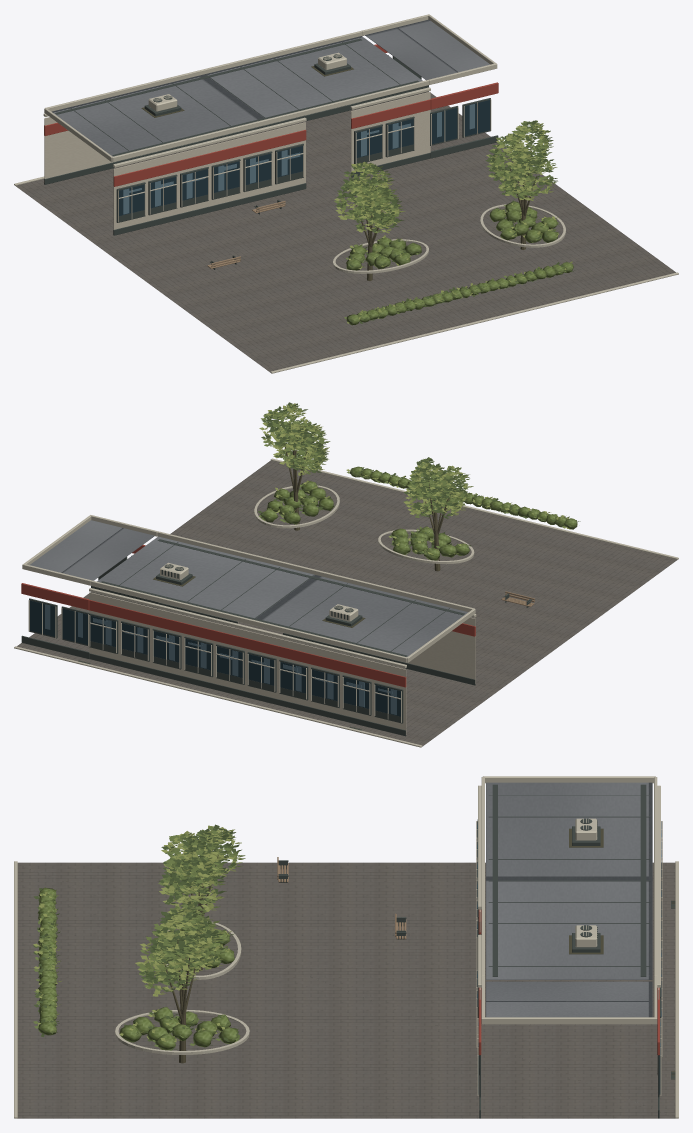
Rendered from court.glb.
3 views of the same model, one above another, from view 1: azimuth 30°, elevation 25°; view 2: azimuth 150°, elevation 25°; view 3: azimuth 270°, elevation 25° (orthographic). The views are drawn at different scales.
Parts seen in each view (by area): view 1: fixed:limestone, srap:roof-felt, fixed:leaf shadow, srap:plaster, srap:powder coated graphite, srap:limestone coping, fixed:foliage, fixed:limestone coping, srap:smoked glazing, fixed:roof-felt, srap:SRAP enamel, srap:soft reflected sky (+4 smaller); view 2: fixed:limestone, srap:roof-felt, srap:powder coated graphite, srap:plaster, srap:limestone coping, fixed:leaf shadow, srap:smoked glazing, fixed:limestone coping, fixed:foliage, fixed:roof-felt, srap:SRAP enamel, srap:soft reflected sky (+4 smaller); view 3: fixed:limestone, srap:roof-felt, fixed:leaf shadow, fixed:roof-felt, srap:limestone coping, fixed:limestone coping, fixed:foliage, srap:powder coated graphite, fixed:bark, fixed:powder coated graphite.
Part boxes in pixels (left/top/right/bottom): fixed:limestone: left=15, top=91, right=675, bottom=373; srap:roof-felt: left=52, top=36, right=422, bottom=156; fixed:leaf shadow: left=334, top=120, right=574, bottom=323; srap:plaster: left=44, top=92, right=430, bottom=229; srap:powder coated graphite: left=44, top=38, right=430, bottom=235; srap:limestone coping: left=43, top=30, right=430, bottom=222; fixed:foliage: left=346, top=201, right=573, bottom=325; fixed:limestone coping: left=14, top=14, right=678, bottom=373; srap:smoked glazing: left=119, top=119, right=413, bottom=215; fixed:roof-felt: left=365, top=19, right=489, bottom=80; srap:SRAP enamel: left=44, top=99, right=430, bottom=186; srap:soft reflected sky: left=123, top=123, right=410, bottom=214; fixed:limestone: left=17, top=460, right=678, bottom=747; srap:roof-felt: left=97, top=536, right=468, bottom=656; srap:powder coated graphite: left=89, top=539, right=475, bottom=736; srap:plaster: left=89, top=592, right=475, bottom=734; srap:limestone coping: left=89, top=531, right=476, bottom=722; fixed:leaf shadow: left=258, top=402, right=580, bottom=560; srap:smoked glazing: left=90, top=615, right=400, bottom=716; fixed:limestone coping: left=14, top=458, right=678, bottom=747; fixed:foliage: left=260, top=466, right=577, bottom=560; fixed:roof-felt: left=29, top=520, right=154, bottom=580; srap:SRAP enamel: left=89, top=600, right=475, bottom=687; srap:soft reflected sky: left=93, top=618, right=396, bottom=714; fixed:limestone: left=17, top=862, right=675, bottom=1118; srap:roof-felt: left=486, top=782, right=652, bottom=979; fixed:leaf shadow: left=33, top=824, right=245, bottom=1050; fixed:roof-felt: left=486, top=981, right=652, bottom=1017; srap:limestone coping: left=476, top=776, right=662, bottom=1057; fixed:limestone coping: left=14, top=861, right=678, bottom=1118; fixed:foliage: left=38, top=887, right=238, bottom=1050; srap:powder coated graphite: left=477, top=784, right=660, bottom=1074; fixed:bark: left=164, top=855, right=218, bottom=1063; fixed:powder coated graphite: left=278, top=860, right=675, bottom=1118.
Size of the model in its own units: 36 by 10.18 by 39.52.
Materials: 15 (4 with a texture image).
